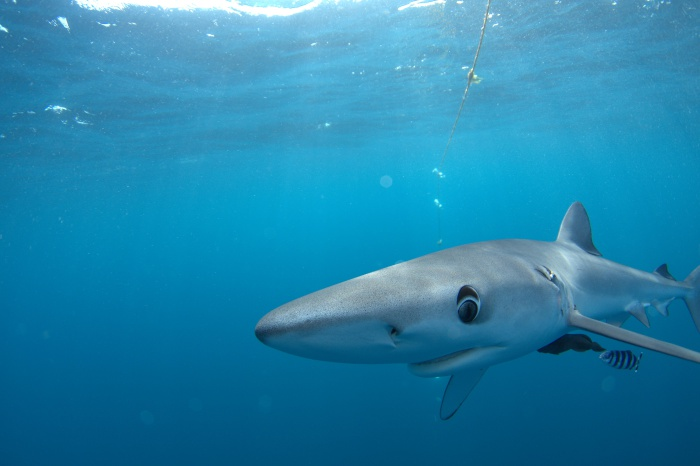Azul: (245, 192, 700, 430)
